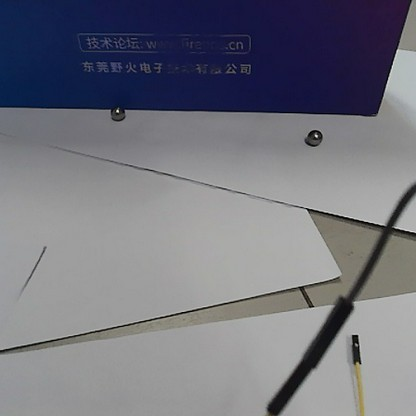ironball: (303, 127, 322, 146), (108, 103, 126, 121)
